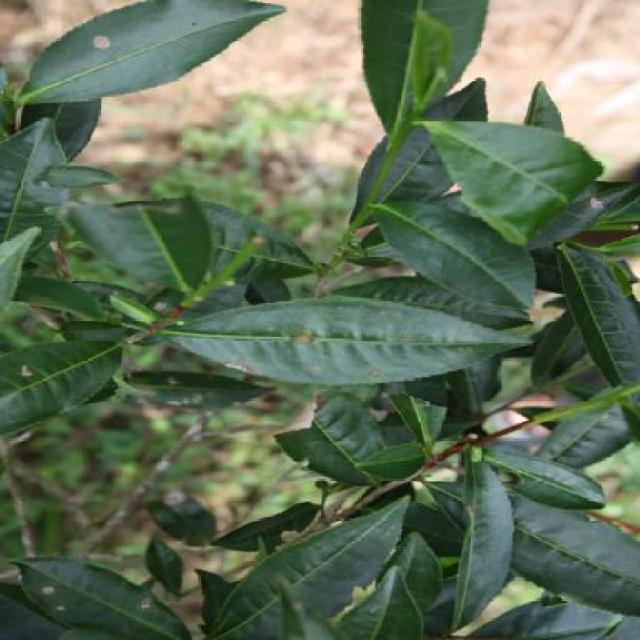Leaf rust of tea: (186, 300, 551, 383)
